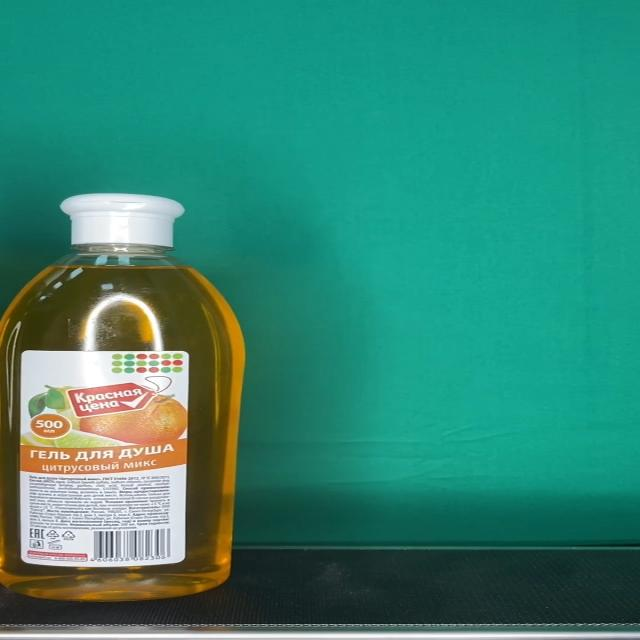Bottle: (0, 193, 246, 601)
Cap: (60, 193, 185, 246)
